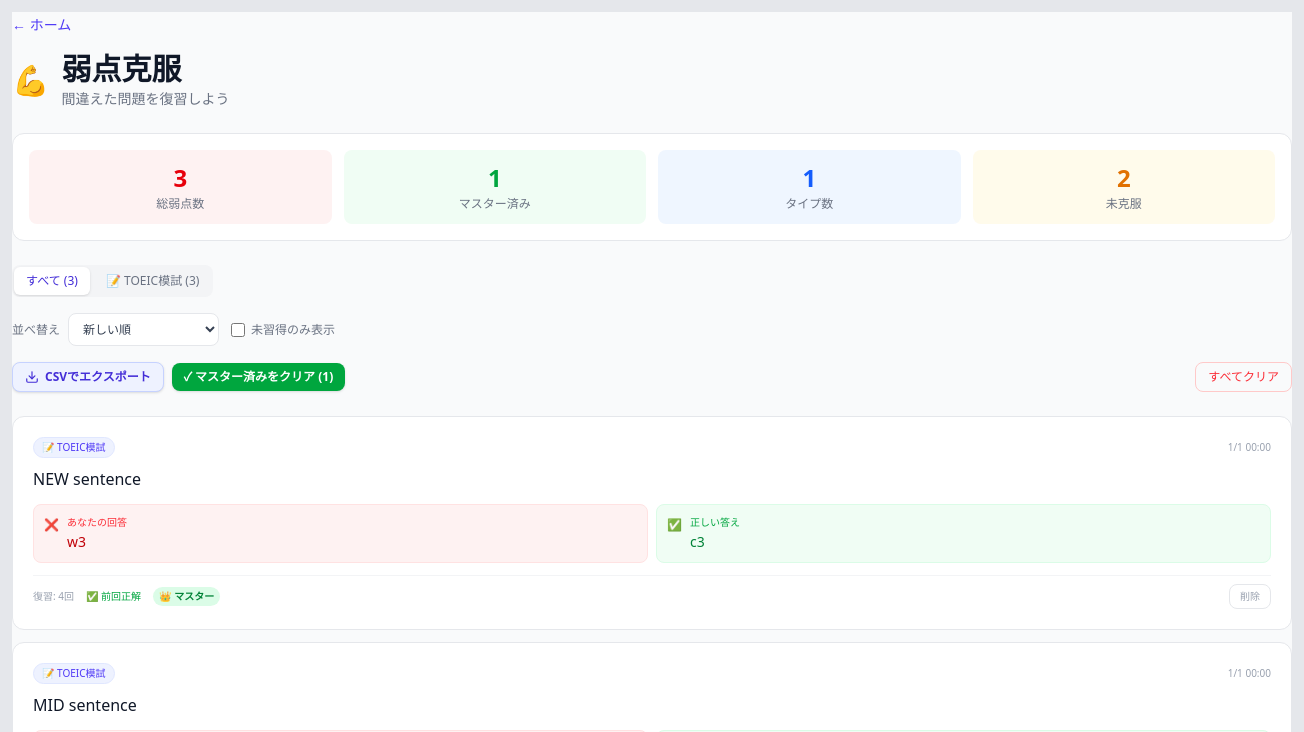
Test case: WeakPointsPage sort + unmastered filter › hides mastered items when "未習得のみ表示" is toggled on
Click the checkbox labelled "未習得のみ表示" at (238, 330), box [231,322,245,336]
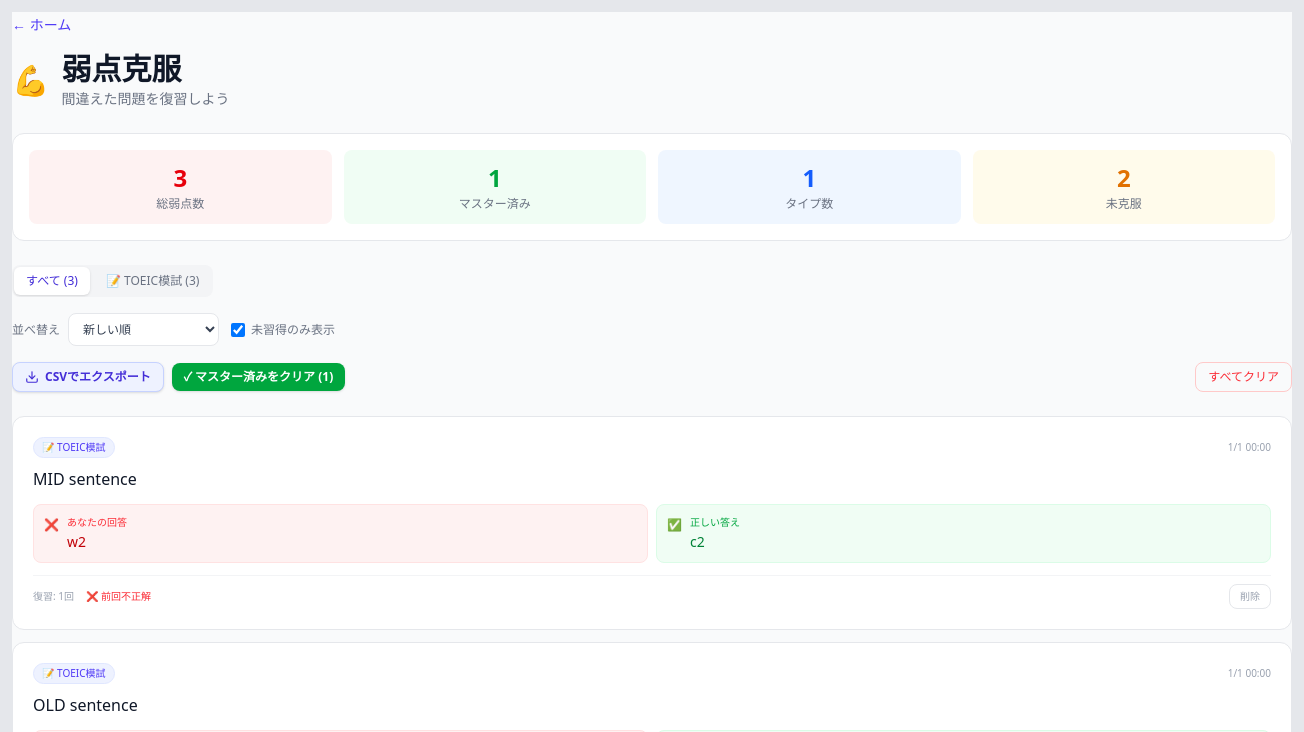
expect the text "NEW sentence" is gone: met
